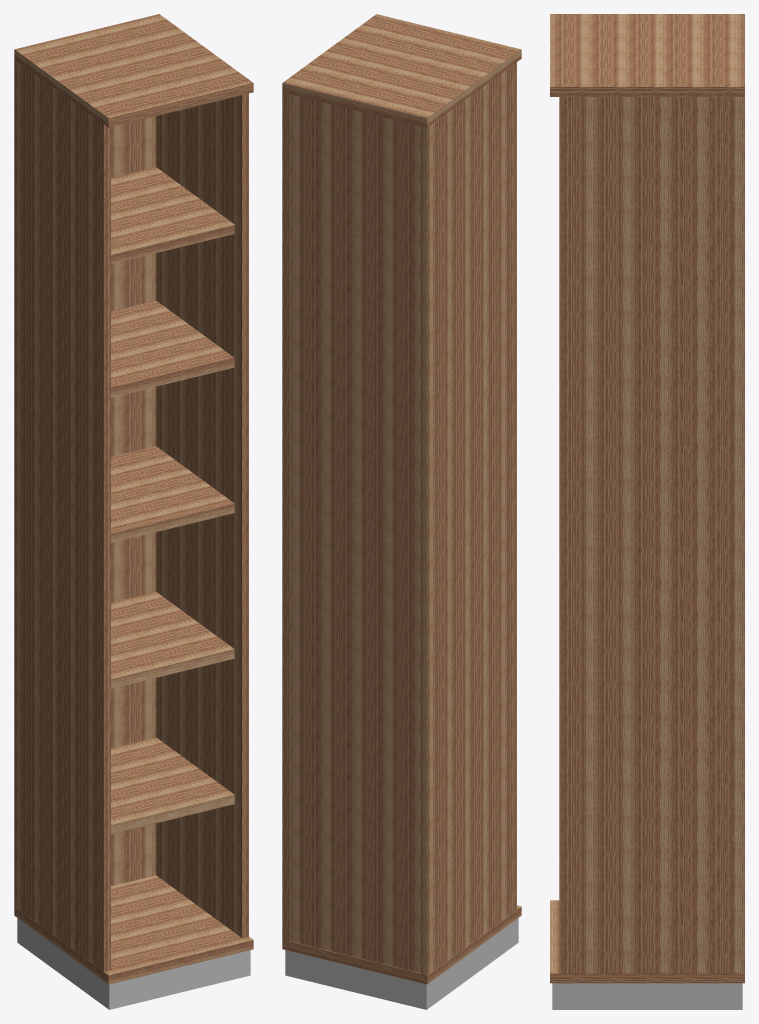
The model's file is baseline_shelf_6OH_45x40_FIN.fbx.
3 renders of one model, left to right at view 1: azimuth 30°, elevation 25°; view 2: azimuth 150°, elevation 25°; view 3: azimuth 270°, elevation 25°, orthographic. The views are drawn at different scales.
Parts seen in each view (by area): view 1: body_mesh, podstawa_mesh; view 2: body_mesh, podstawa_mesh; view 3: body_mesh, podstawa_mesh.
Part boxes in pixels (left/top/right/bottom): body_mesh: left=14, top=14, right=253, bottom=984; podstawa_mesh: left=17, top=918, right=250, bottom=1009; body_mesh: left=282, top=14, right=521, bottom=984; podstawa_mesh: left=285, top=918, right=518, bottom=1009; body_mesh: left=550, top=14, right=744, bottom=983; podstawa_mesh: left=552, top=983, right=742, bottom=1009.
Size of the model in its own units: 40 by 236 by 45.
